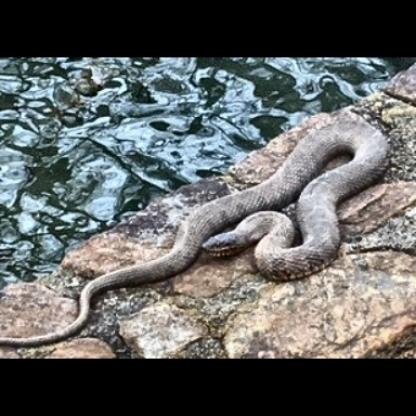Snake: (36, 118, 391, 324)
